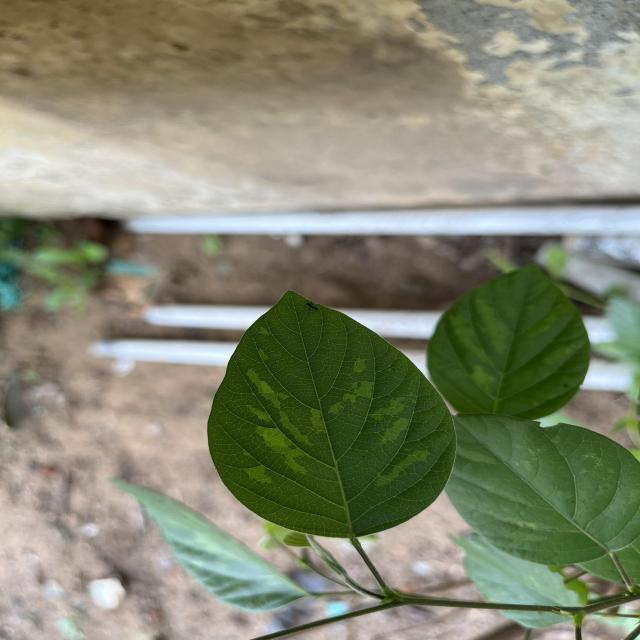Desmodium gangeticum: (204, 285, 464, 546)
